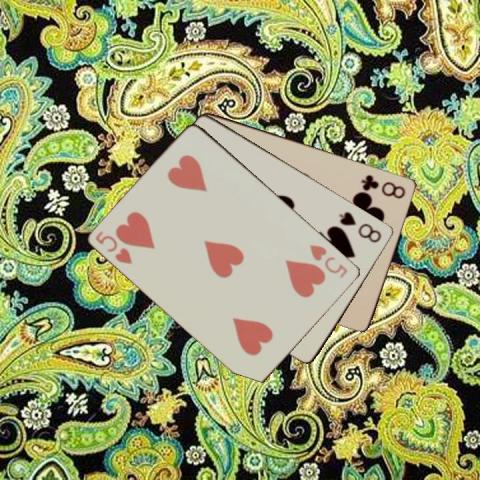5h: (307, 241, 349, 280), (93, 227, 134, 266)
8c: (359, 171, 407, 200)
8s: (336, 208, 383, 244)
